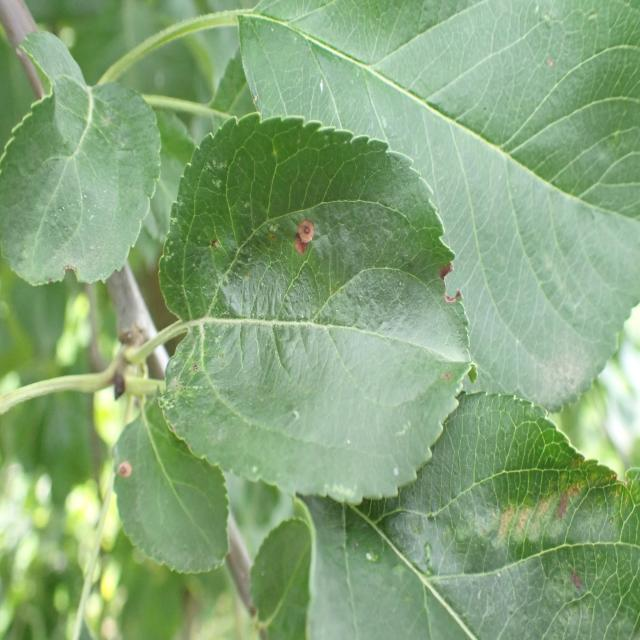Black Rot: (464, 453, 603, 568), (284, 181, 316, 300), (433, 229, 472, 325), (113, 448, 148, 499)
